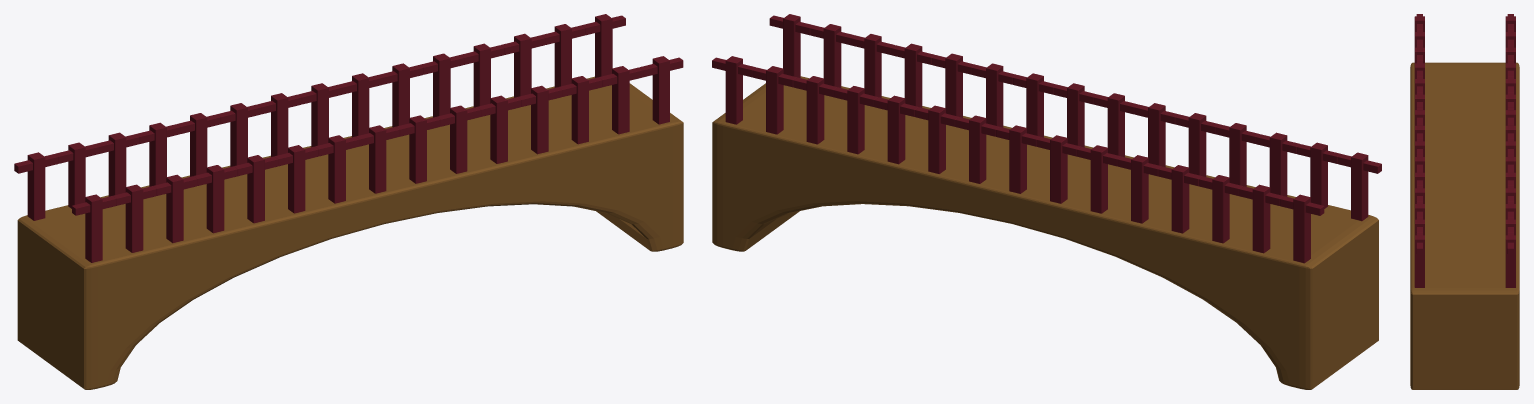
Rendered from arch_bridge.fbx.
3 renders of one model, left to right at view 1: azimuth 30°, elevation 25°; view 2: azimuth 150°, elevation 25°; view 3: azimuth 270°, elevation 25°, orthographic. The views are drawn at different scales.
Visible parts, largest first — view 1: Cube, Cube.001; view 2: Cube, Cube.001; view 3: Cube, Cube.001.
Part boxes in pixels (box(x1,y1,x2,y2)): Cube: box(17, 76, 683, 389); Cube.001: box(14, 14, 683, 262); Cube: box(712, 76, 1378, 389); Cube.001: box(712, 14, 1381, 263); Cube: box(1410, 62, 1519, 389); Cube.001: box(1414, 14, 1515, 287).
Bounding box in the file's own units: 1016 × 298 × 200.
